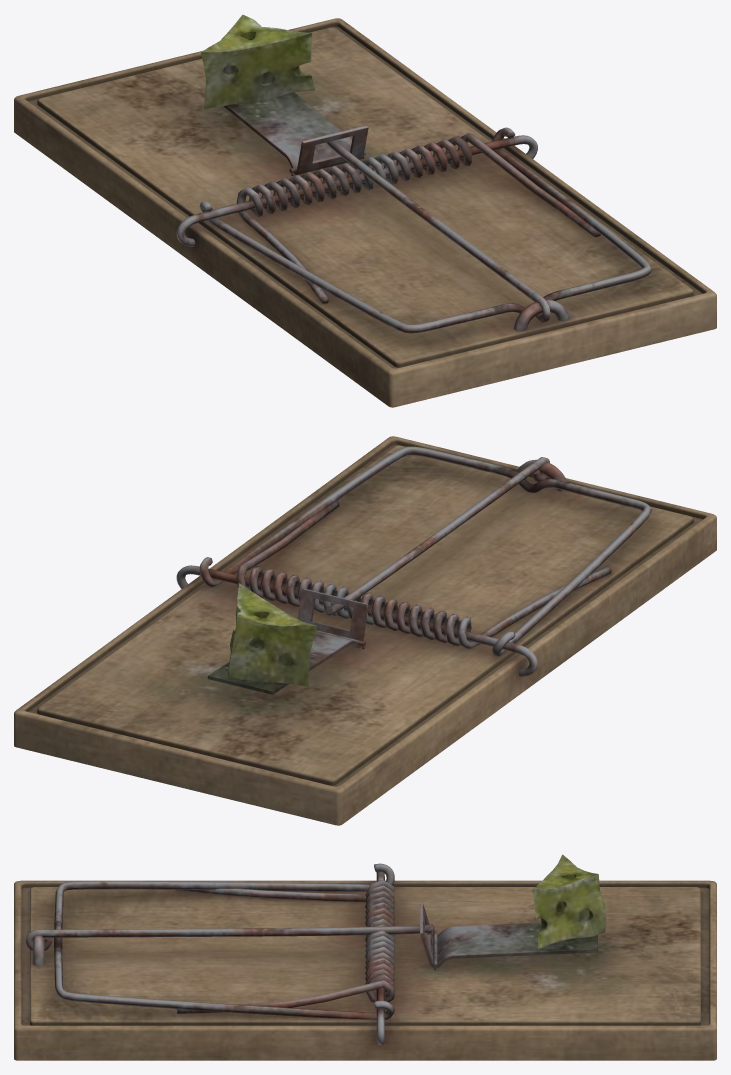
File: mousetrap.glb
3 views of the same model, one above another, from view 1: azimuth 30°, elevation 25°; view 2: azimuth 150°, elevation 25°; view 3: azimuth 270°, elevation 25° (orthographic). The views are drawn at different scales.
Visible parts, largest first — view 1: mousetrap; view 2: mousetrap; view 3: mousetrap.
Boxes of the visible parts, x1,y1,x2,y2 form: mousetrap: [14, 14, 716, 407]; mousetrap: [14, 436, 716, 825]; mousetrap: [14, 854, 716, 1060].
Bounding box in the file's own units: 0.055 × 0.0179 × 0.1004.
1 material, 1 textured.
